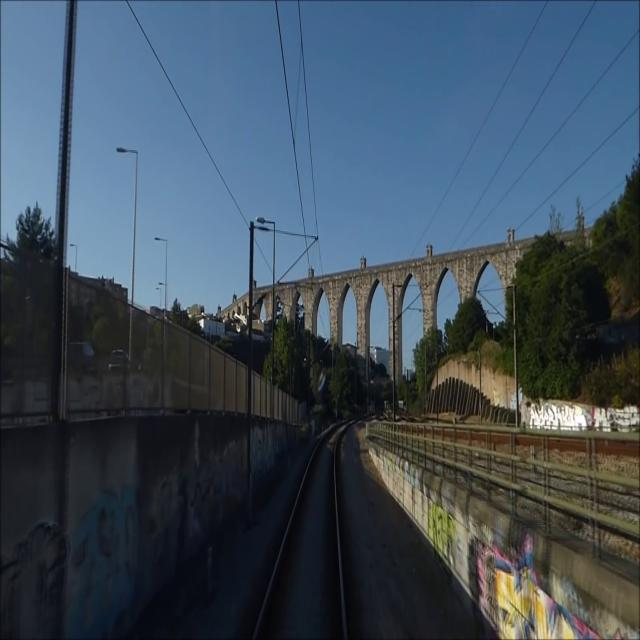rail-track: (258, 430, 341, 639)
